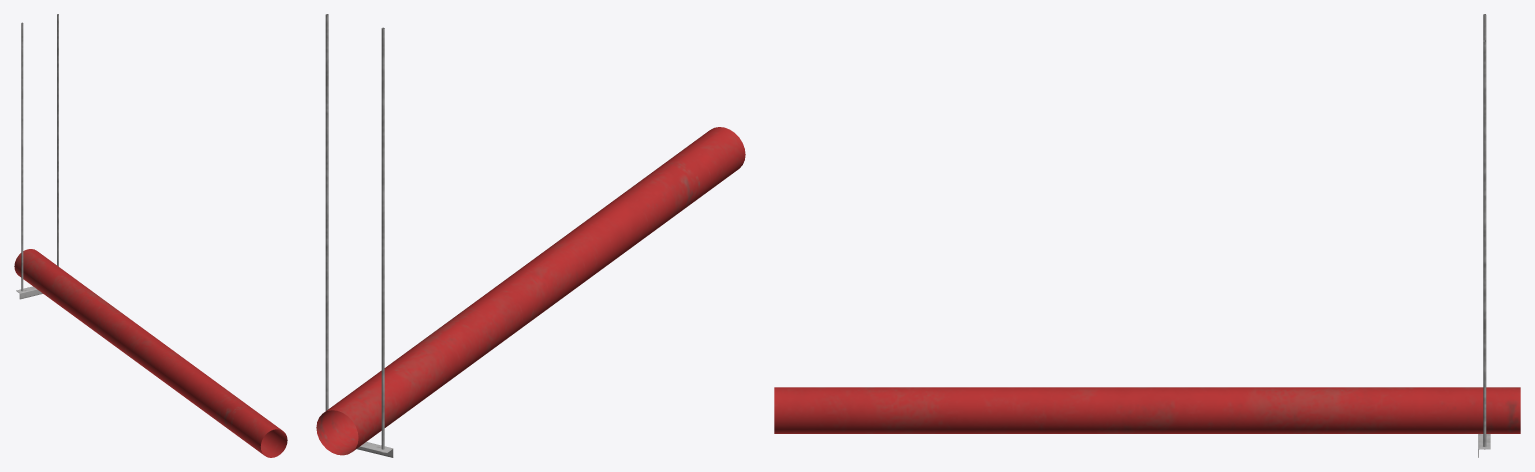
The model's file is SM_Overhead_Utilities01.fbx.
3 renders of one model, left to right at view 1: azimuth 30°, elevation 25°; view 2: azimuth 150°, elevation 25°; view 3: azimuth 270°, elevation 25°, orthographic. The views are drawn at different scales.
Visible parts, largest first — view 1: SM_Overhead_Utilities01_LOD0; view 2: SM_Overhead_Utilities01_LOD0; view 3: SM_Overhead_Utilities01_LOD0.
Part boxes in pixels (bbox=[...]): SM_Overhead_Utilities01_LOD0: bbox=[14, 14, 287, 457]; SM_Overhead_Utilities01_LOD0: bbox=[316, 14, 745, 457]; SM_Overhead_Utilities01_LOD0: bbox=[774, 14, 1520, 457].
Bounding box in the file's own units: 20.59 × 202 × 124.
